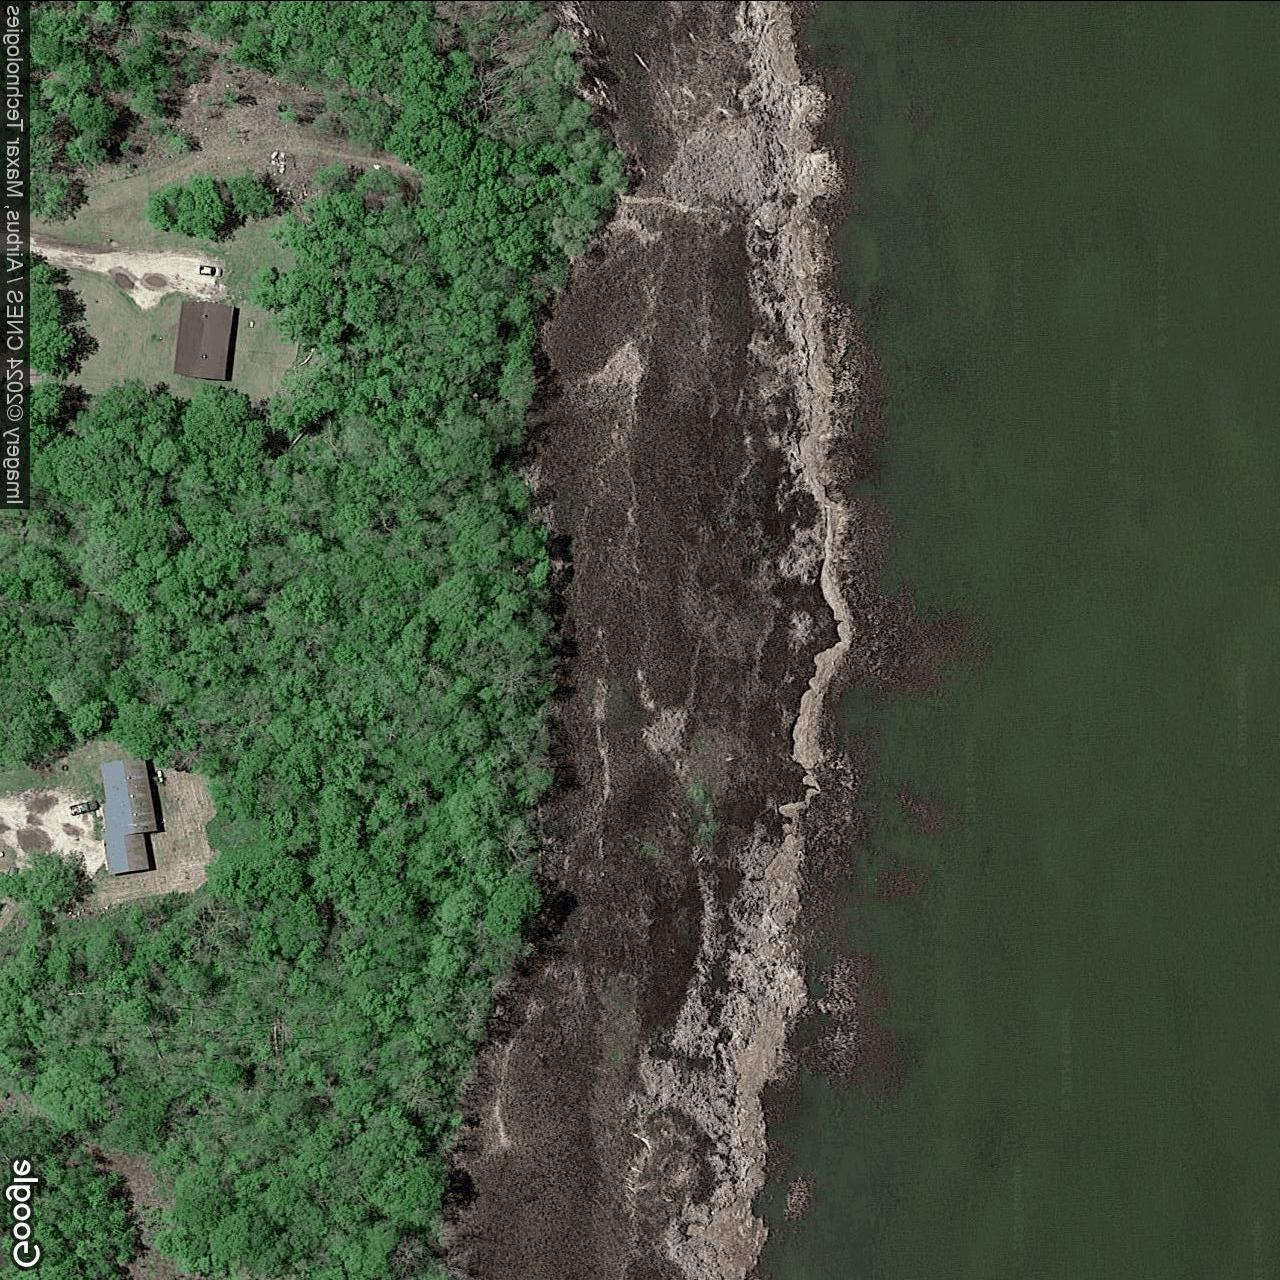House: (100, 755, 158, 876), (172, 299, 234, 381)
